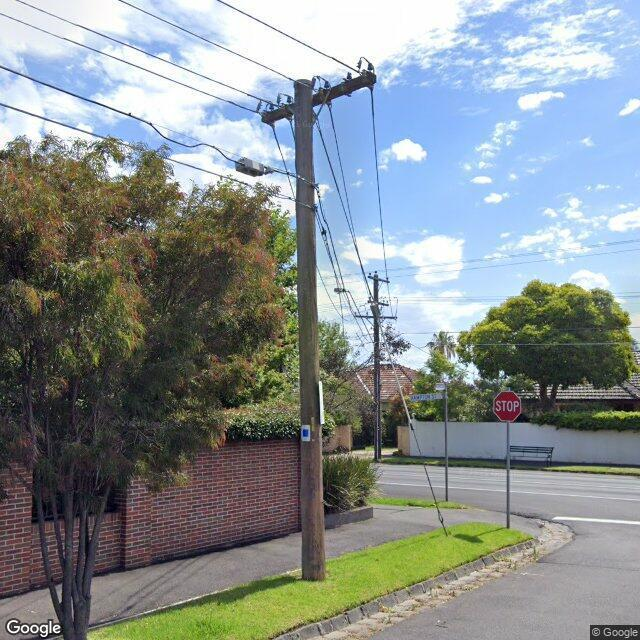HV-transmission: (369, 270, 388, 280)
crossarm: (262, 72, 376, 124), (354, 315, 398, 319), (368, 276, 390, 282), (368, 300, 388, 306)
streetlight: (334, 288, 375, 346)
timber-pole: (294, 79, 326, 581), (374, 274, 381, 460)
